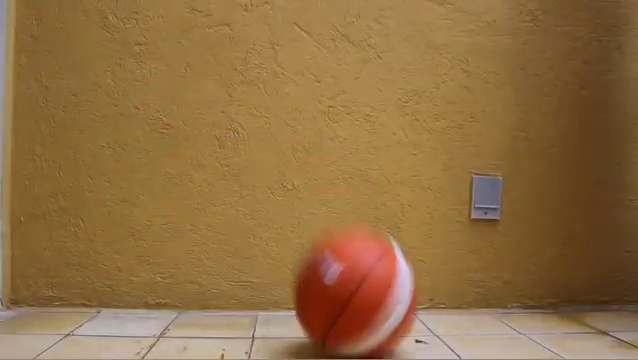ball: (295, 228, 417, 360)
